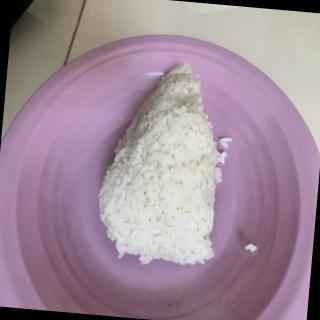Nasi: (96, 55, 229, 267)
